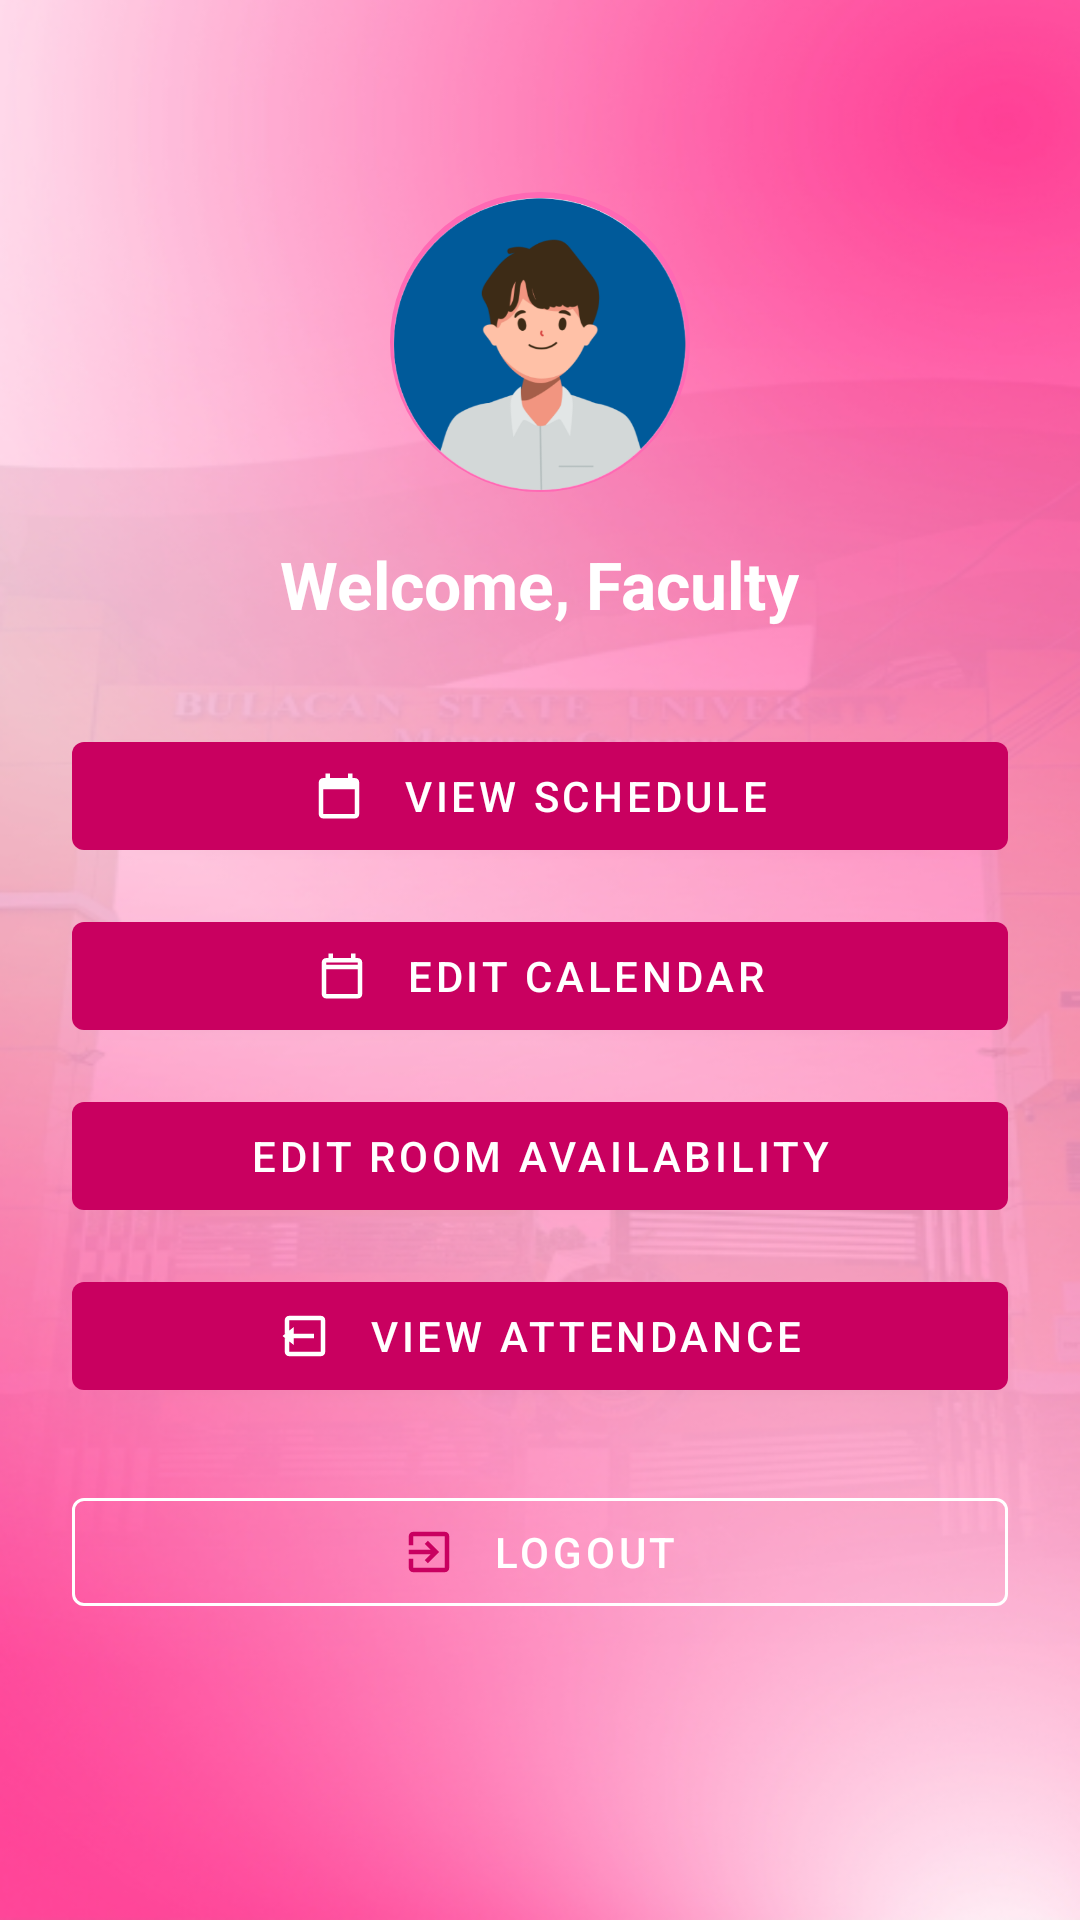

Point at icon controls on the screen. Image size 1080 × 1920, points as (x=x, y=y).
human: (x=540, y=342)
